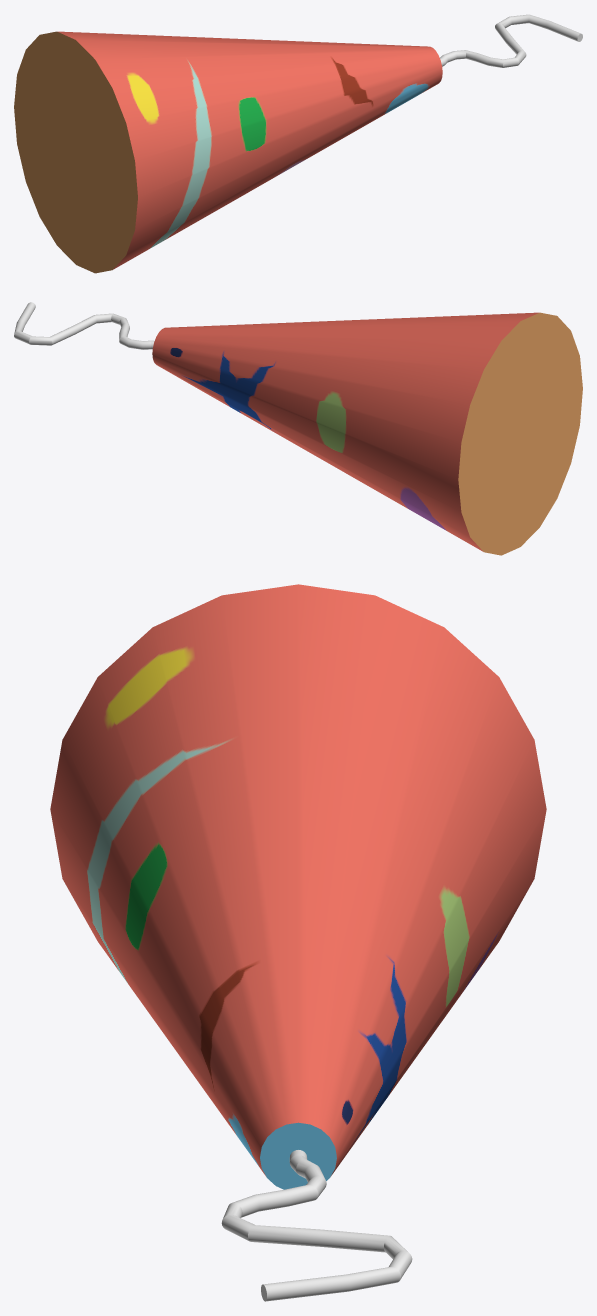
The model's file is party_popper.fbx.
3 renders of one model, top to bottom at view 1: azimuth 30°, elevation 25°; view 2: azimuth 150°, elevation 25°; view 3: azimuth 270°, elevation 25°, orthographic. The views are drawn at different scales.
Visible parts, largest first — view 1: pCylinder1, pCylinder2; view 2: pCylinder1, pCylinder2; view 3: pCylinder1, pCylinder2.
Boxes of the visible parts, x1=… form: pCylinder1: x1=14, y1=31, x2=442, y2=273; pCylinder2: x1=440, y1=14, x2=582, y2=67; pCylinder1: x1=152, y1=312, x2=582, y2=555; pCylinder2: x1=14, y1=302, x2=154, y2=349; pCylinder1: x1=50, y1=584, x2=546, y2=1189; pCylinder2: x1=221, y1=1150, x2=412, y2=1301.
Size of the model in its own units: 2.49 by 1.07 by 1.07.
Materials: 2 (1 with a texture image).
